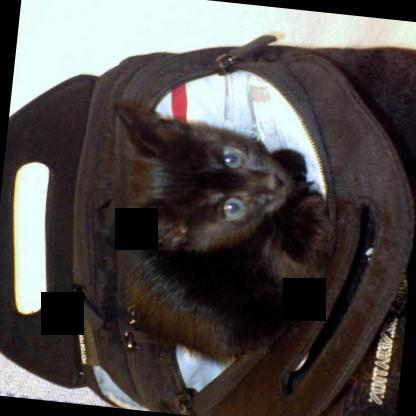handbag: (0, 34, 416, 416)
